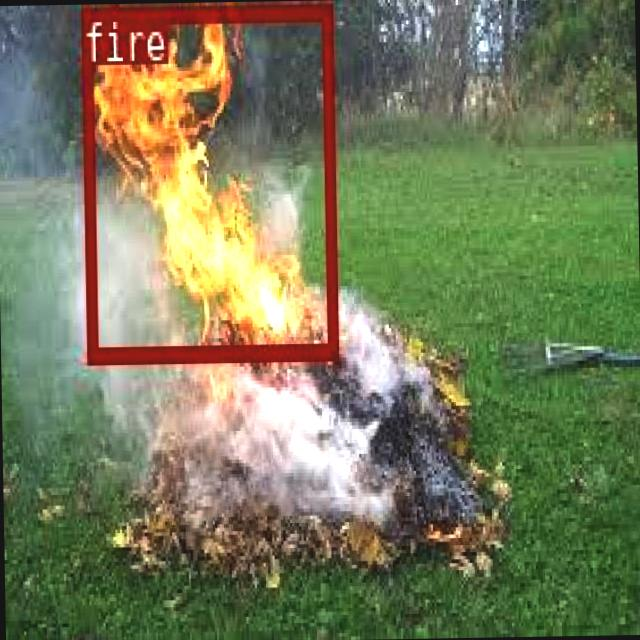fire: (80, 1, 334, 358)
